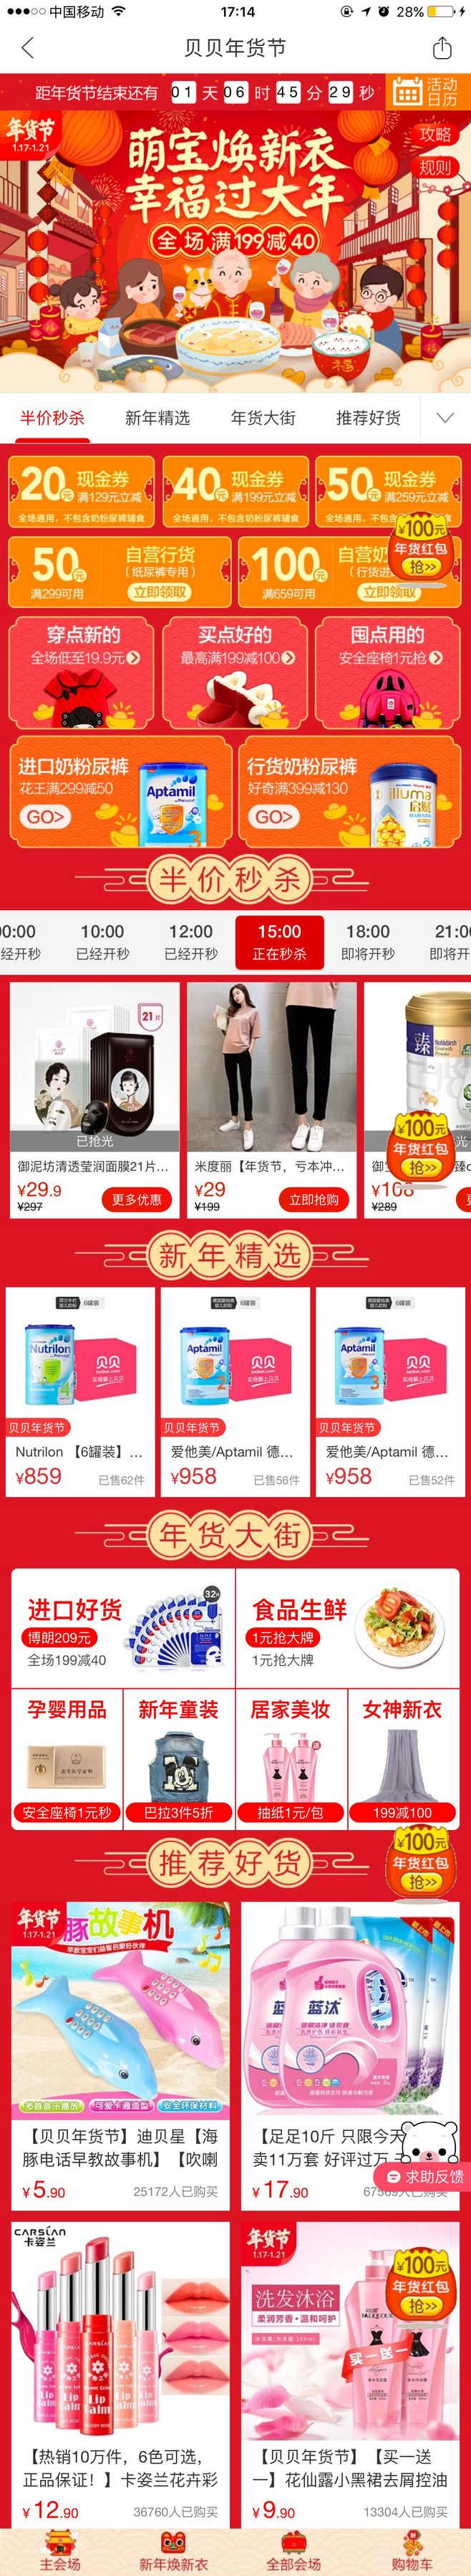floors: (0, 1837, 471, 2527), (0, 450, 471, 851), (0, 853, 471, 1226), (0, 1508, 471, 1832), (0, 1229, 471, 1500)
toutu: (0, 74, 471, 391)
